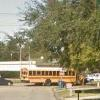Bus: (19, 62, 86, 89)
